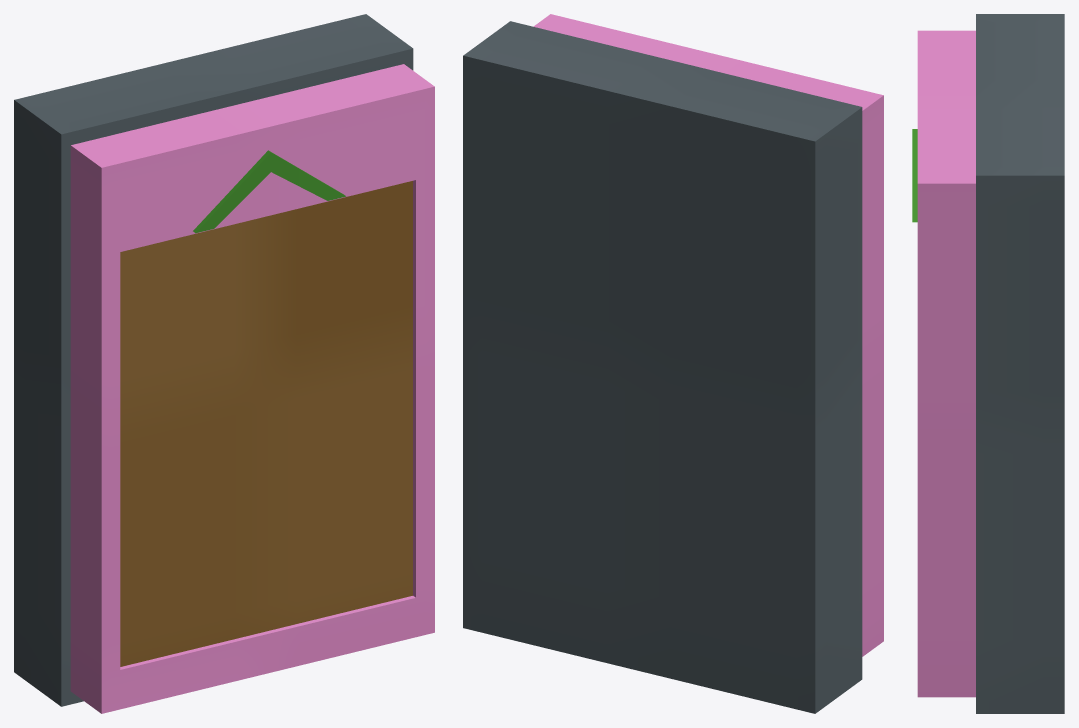
The model's file is greenhouse_monitor.obj.
3 views of the same model, side by side, from view 1: azimuth 30°, elevation 25°; view 2: azimuth 150°, elevation 25°; view 3: azimuth 270°, elevation 25° (orthographic). The views are drawn at different scales.
Visible parts, largest first — view 1: continuous_metal_bezel_around_inset_readout, single_wood_cased_twin_glass_environment_instrument; view 2: single_wood_cased_twin_glass_environment_instrument, continuous_metal_bezel_around_inset_readout; view 3: single_wood_cased_twin_glass_environment_instrument, continuous_metal_bezel_around_inset_readout.
Boxes of the visible parts, x1,y1,x2,y2 form: continuous_metal_bezel_around_inset_readout: [70, 64, 434, 713]; single_wood_cased_twin_glass_environment_instrument: [14, 14, 413, 706]; single_wood_cased_twin_glass_environment_instrument: [463, 21, 862, 713]; continuous_metal_bezel_around_inset_readout: [533, 14, 883, 656]; single_wood_cased_twin_glass_environment_instrument: [976, 14, 1064, 713]; continuous_metal_bezel_around_inset_readout: [912, 30, 975, 697].
Size of the model in its own units: 0.35 by 0.5438 by 0.1394.
